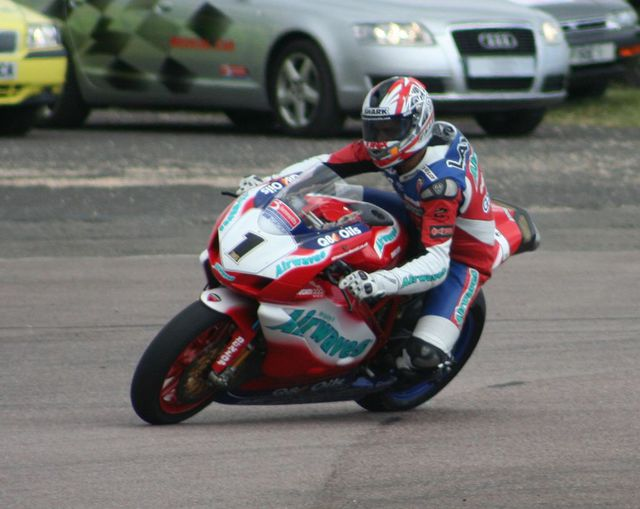helmet: (362, 83, 442, 156)
